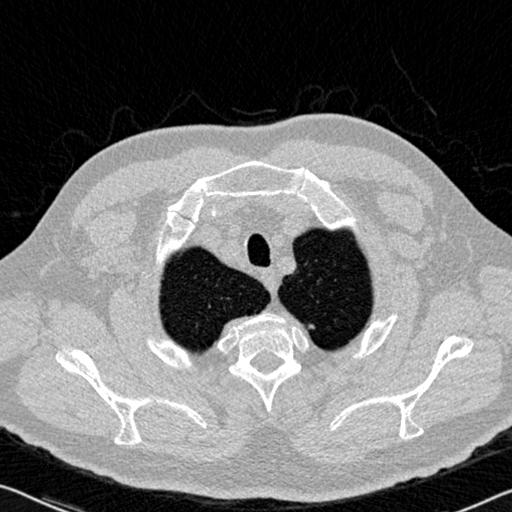nodule: (306, 321, 316, 331)
